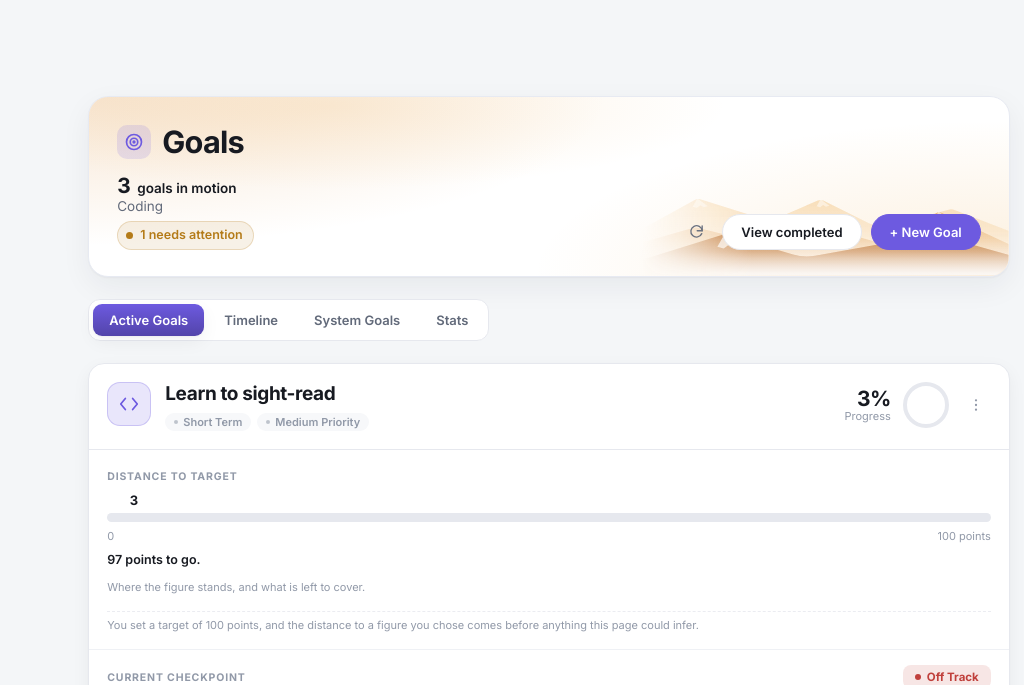
Test: the answer at the top of Stats › comes before the analysis of it, not after
The width and height of the screenshot is (1024, 685).
Step 1. Click the tab "Stats" → (452, 320), box [420, 304, 484, 336]
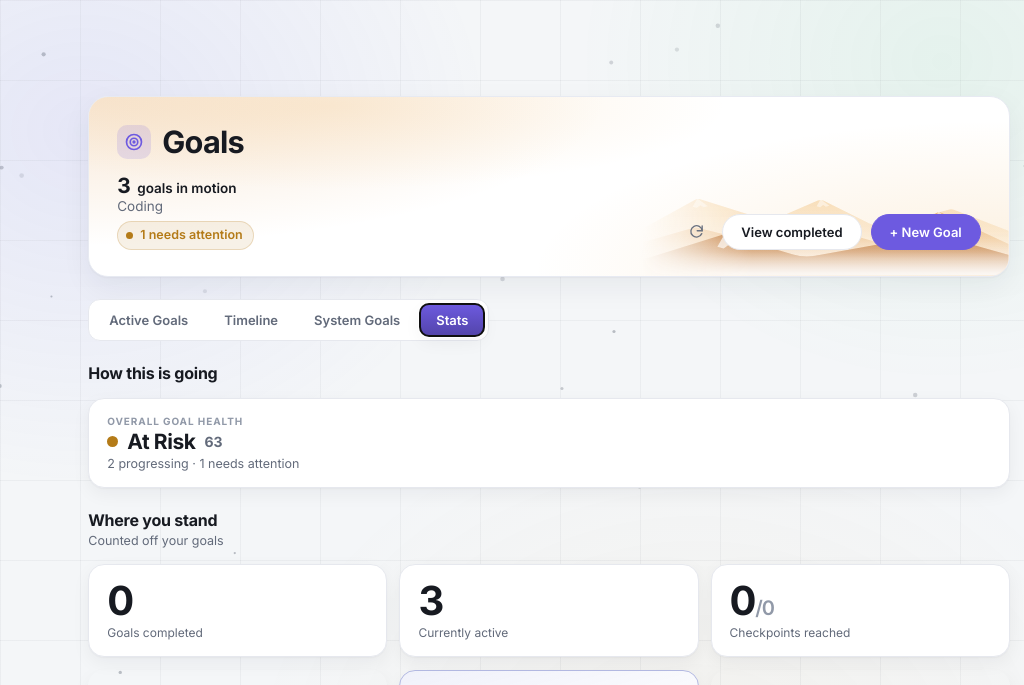
Check: the heading "How this is going" is shown, box [88, 363, 218, 383]
Check: the heading "Where you stand" is shown, box [88, 510, 224, 530]
